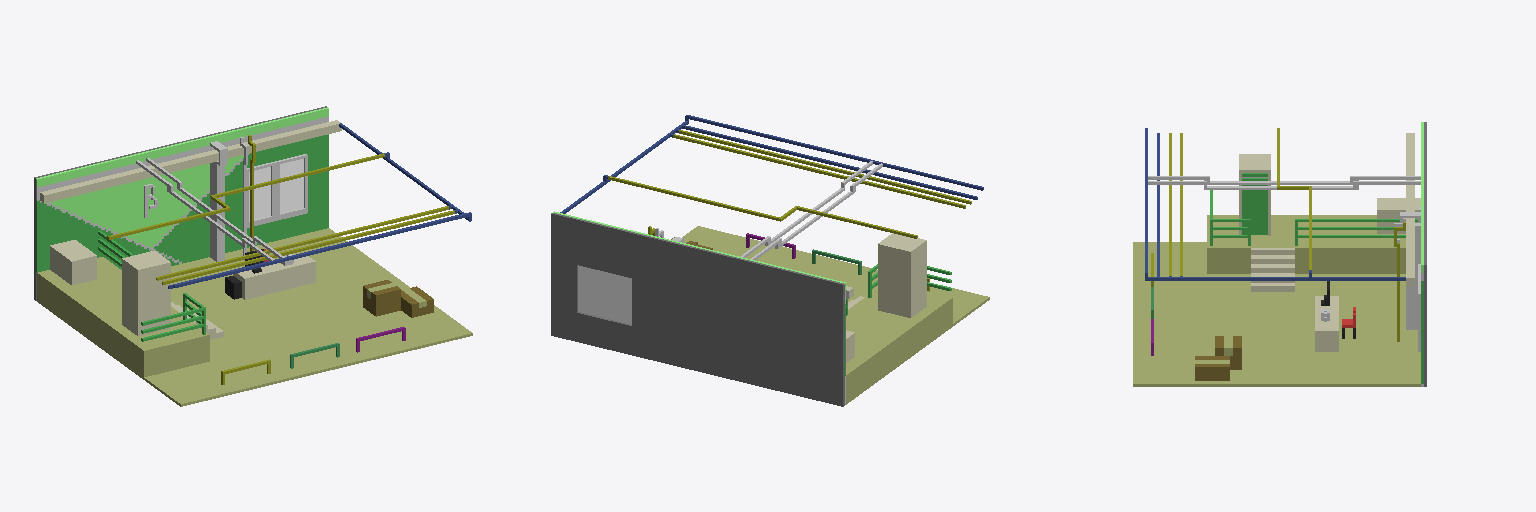
3 renders of one model, left to right at view 1: azimuth 30°, elevation 25°; view 2: azimuth 150°, elevation 25°; view 3: azimuth 270°, elevation 25°, orthographic.
Visible parts, largest first — view 1: object 1; view 2: object 1; view 3: object 1.
Part boxes in pixels (x1,y1,x2,y2): object 1: (34, 106, 472, 406); object 1: (551, 115, 989, 406); object 1: (1133, 122, 1426, 386).
Bounding box in the file's own units: 11.7 × 4.6 × 10.
1 materials, 1 textured.